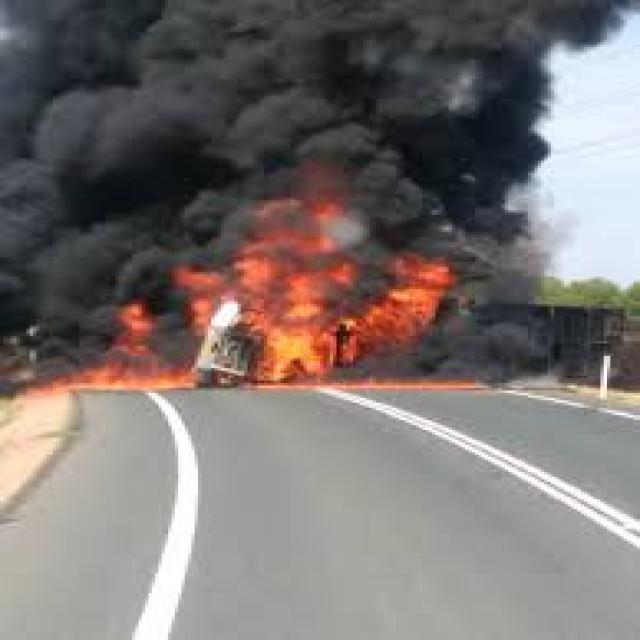Fire: (99, 192, 464, 388)
Smoke: (0, 0, 640, 191), (0, 190, 102, 388), (470, 188, 565, 384)
